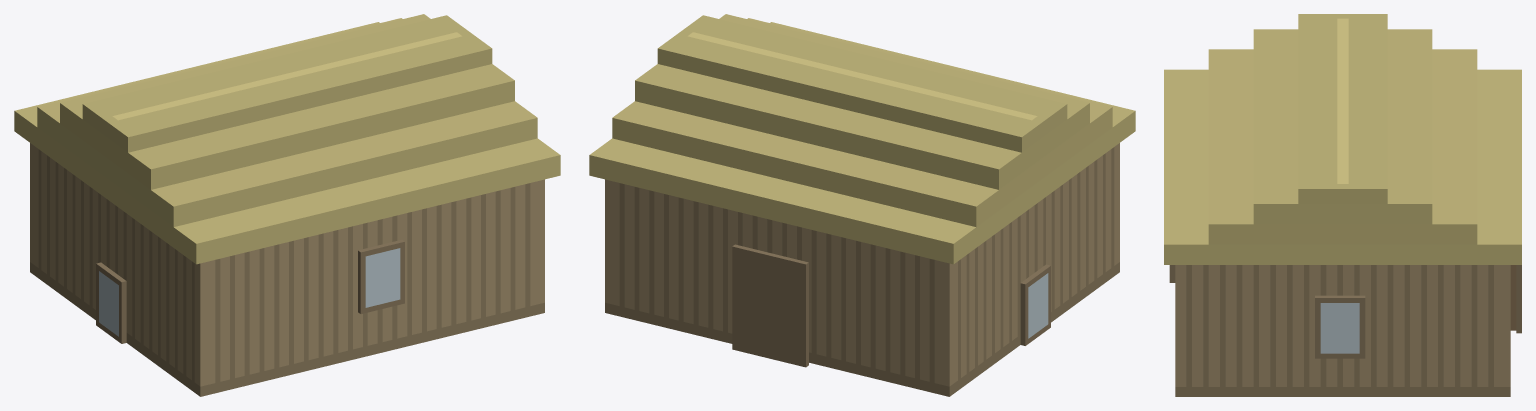
Rendered from cabana_cazador_04.glb.
3 renders of one model, left to right at view 1: azimuth 30°, elevation 25°; view 2: azimuth 150°, elevation 25°; view 3: azimuth 270°, elevation 25°, orthographic.
Parts seen in each view (by area): view 1: cabana_cazador_04; view 2: cabana_cazador_04; view 3: cabana_cazador_04.
Part boxes in pixels (x1,y1,x2,y2): cabana_cazador_04: (14, 14, 560, 396); cabana_cazador_04: (589, 14, 1135, 396); cabana_cazador_04: (1164, 14, 1521, 396).
Size of the model in its own units: 7.4 by 4.2 by 6.4.
